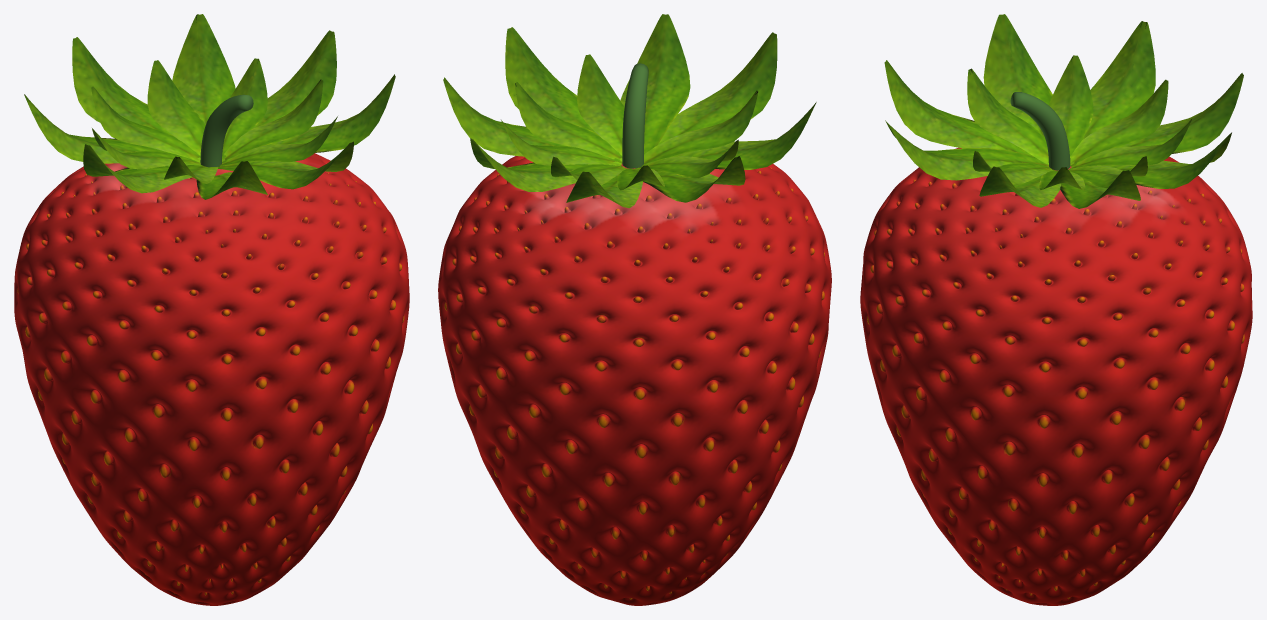
The model's file is strawberry.glb.
The picture shows the model from 3 angles, left to right: view 1: azimuth 30°, elevation 25°; view 2: azimuth 150°, elevation 25°; view 3: azimuth 270°, elevation 25°; orthographic projection.
Visible parts, largest first — view 1: strawberry; view 2: strawberry; view 3: strawberry.
Boxes of the visible parts, x1=… form: strawberry: x1=14, y1=14, x2=409, y2=605; strawberry: x1=438, y1=14, x2=831, y2=605; strawberry: x1=860, y1=14, x2=1252, y2=605.
Size of the model in its own units: 4.9 by 7.08 by 4.9.
Materials: 1 (1 with a texture image).
